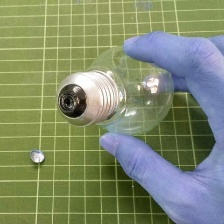light_bulb: (54, 38, 179, 142)
